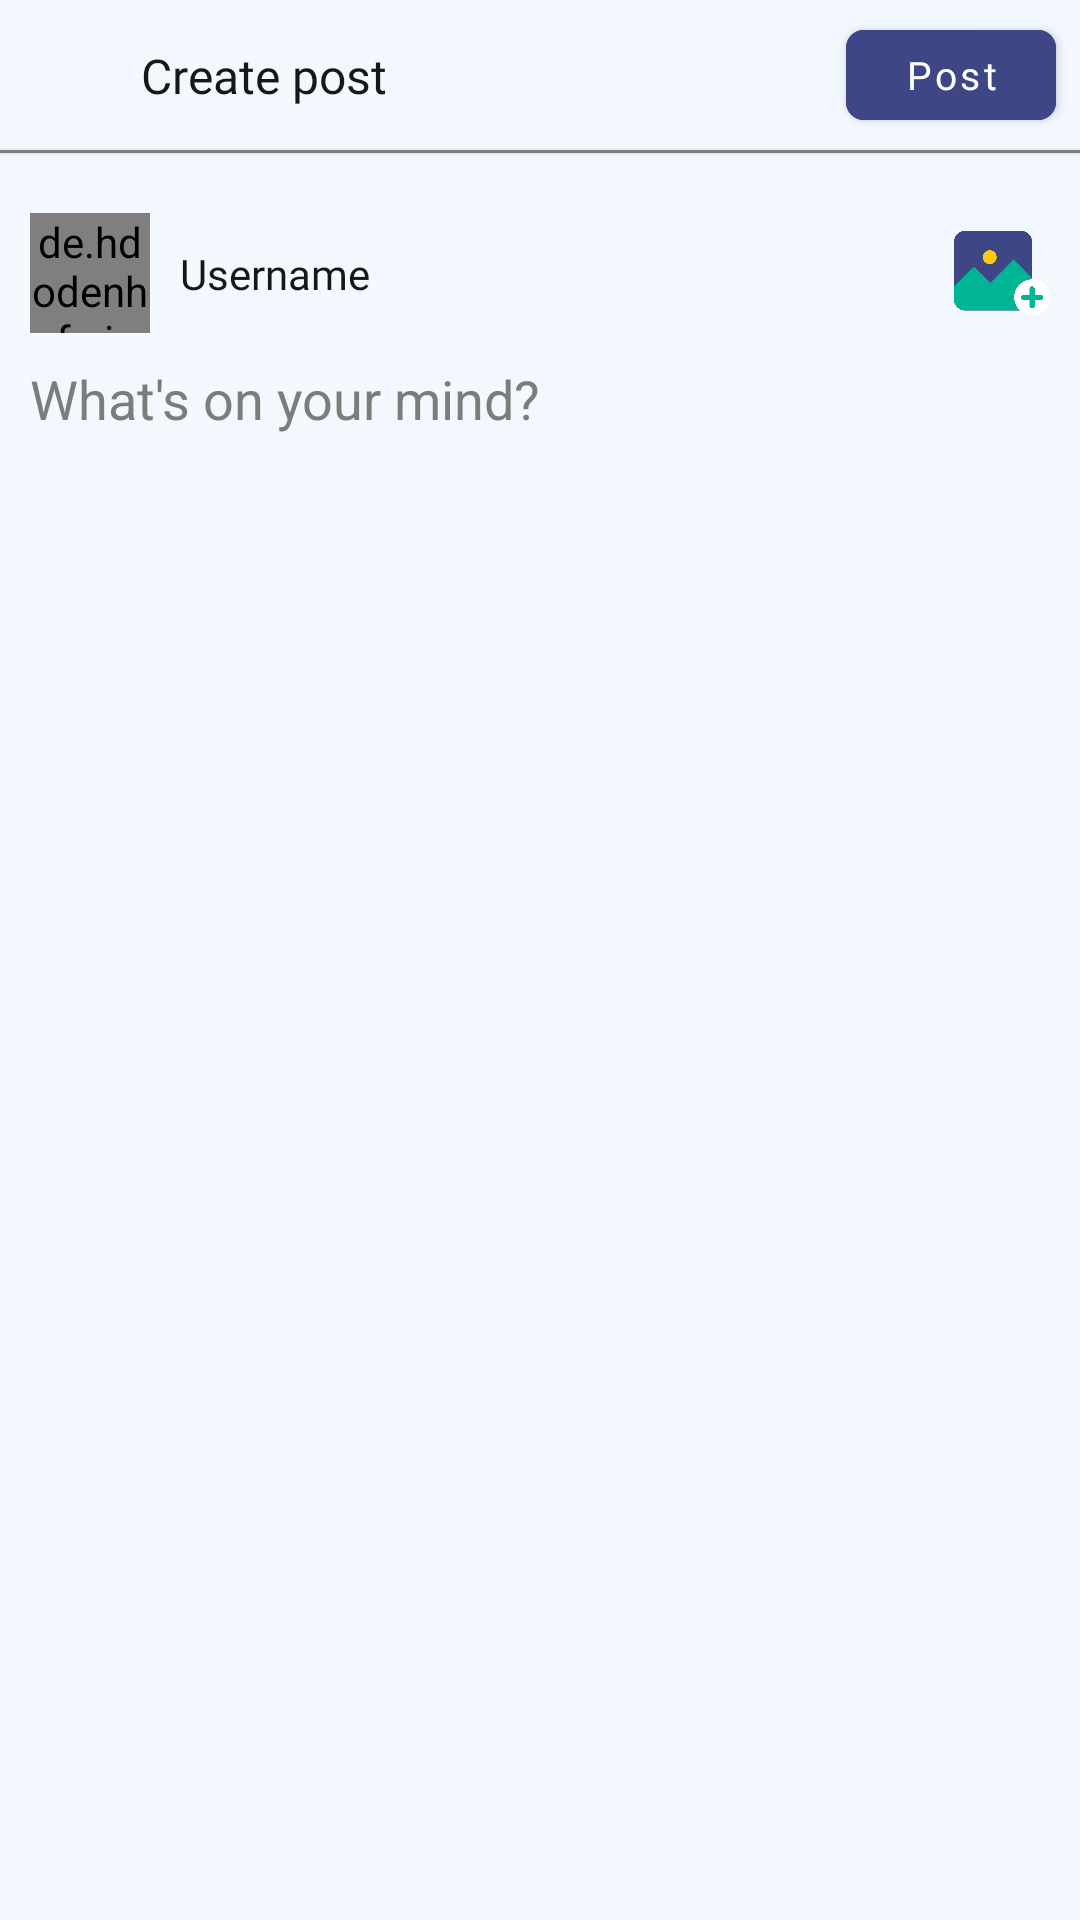

Locate icon controls on the screen. Image size 1080*1920, boxes as (x1, y1, x2, y2).
add: (954, 231, 1043, 311)
